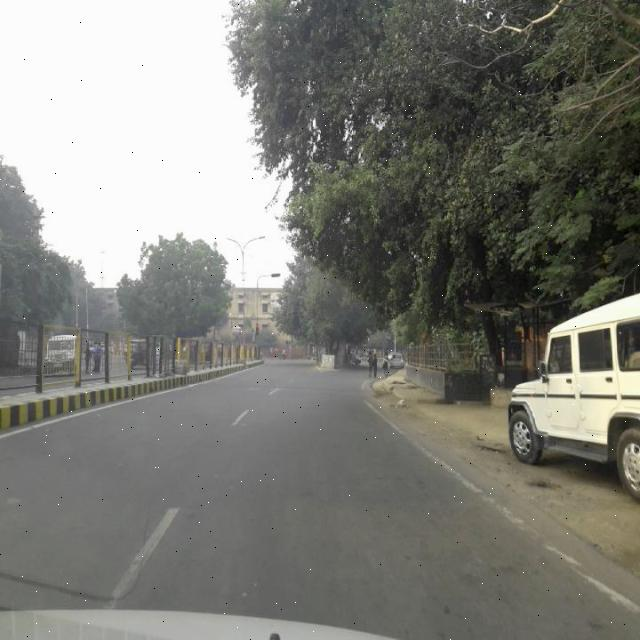D44: (515, 522, 639, 610), (423, 452, 514, 520)
